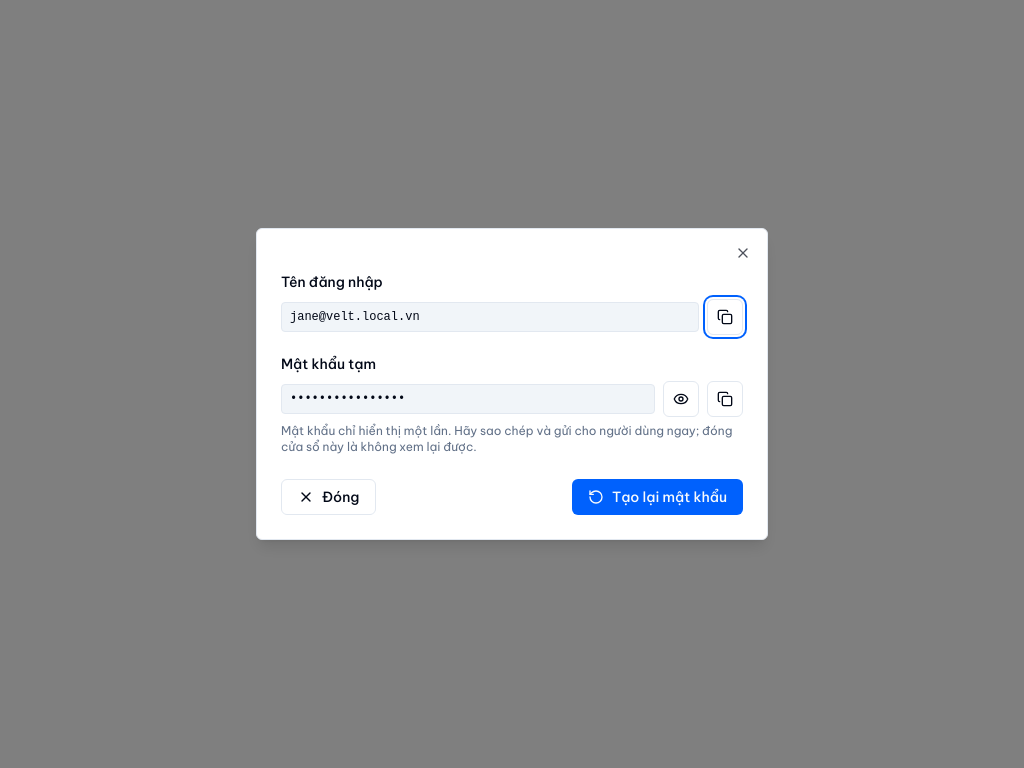
Test case: UserCredentialsDialog › shows the login and masks the temporary password until revealed
Check: the text "jane@velt.local.vn" is shown, box [281,302,699,332]
Check: the text "Sup3rSecretTemp" is not shown
Click the button named "Hiện mật khẩu" at x=681, y=399, box [663,381,699,417]
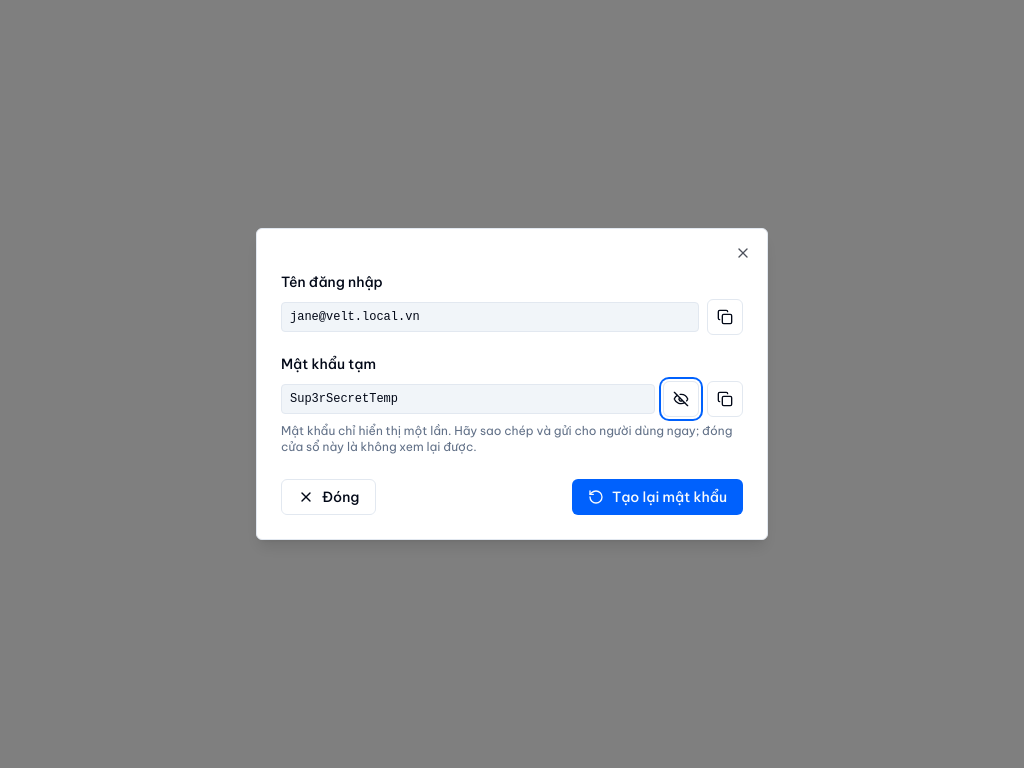
Check: the text "Sup3rSecretTemp" is shown, box [281,384,655,414]
